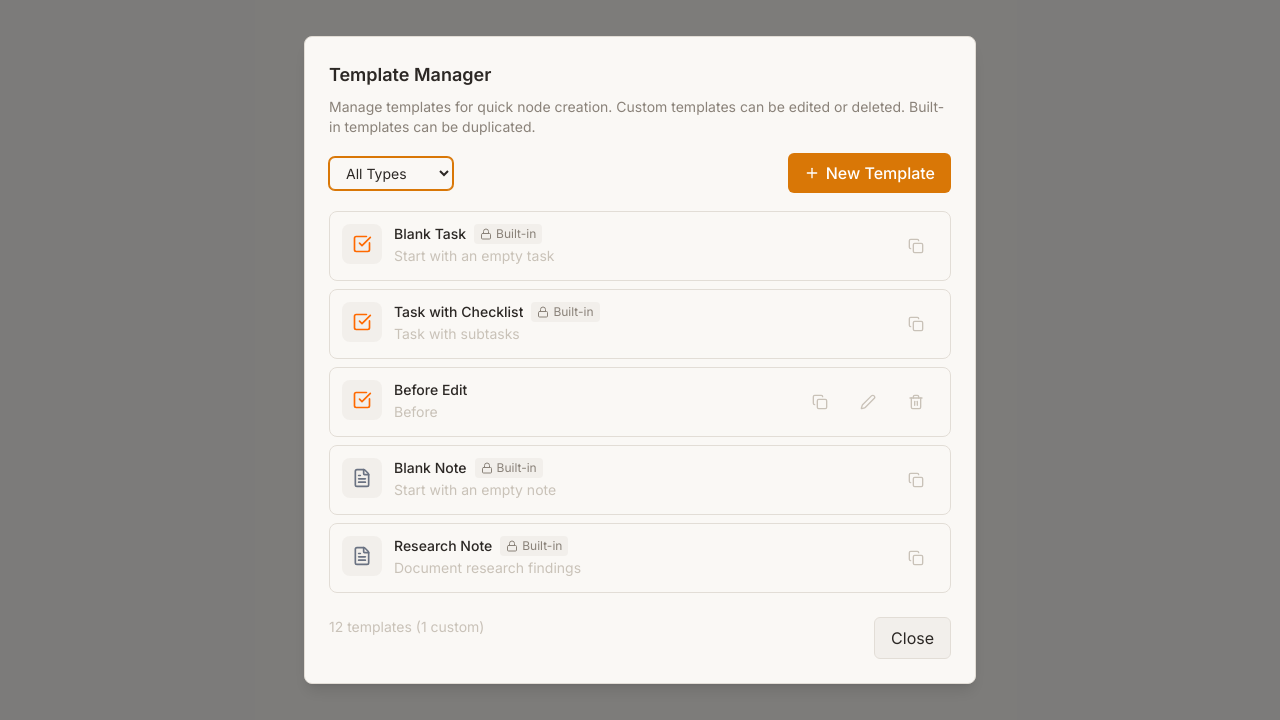
Test: TemplateManager › editing templates › saves edited template
This screenshot has width=1280, height=720.
(page scrolled)
Click the button named "Edit Before Edit". click: (868, 402)
box: [846,380,890,424]
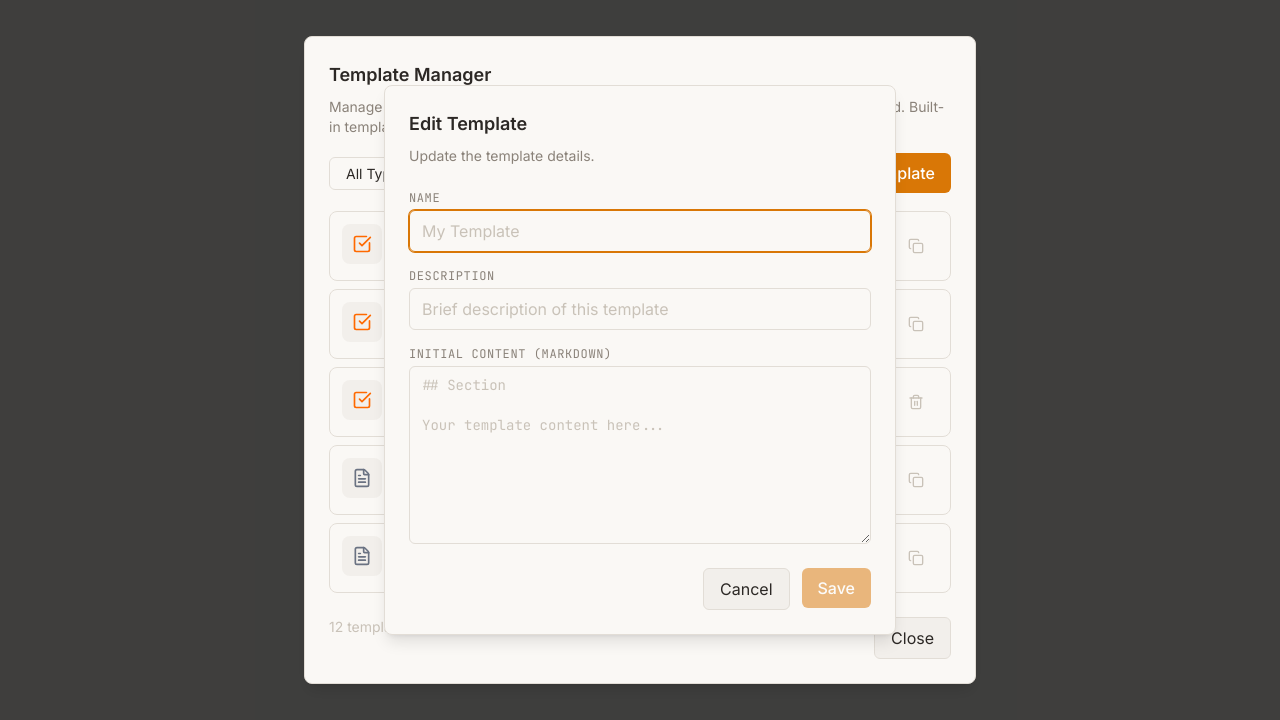
Type "After Edit" into the field labelled "Name". click: (640, 231)
box: [409,210,871,252]
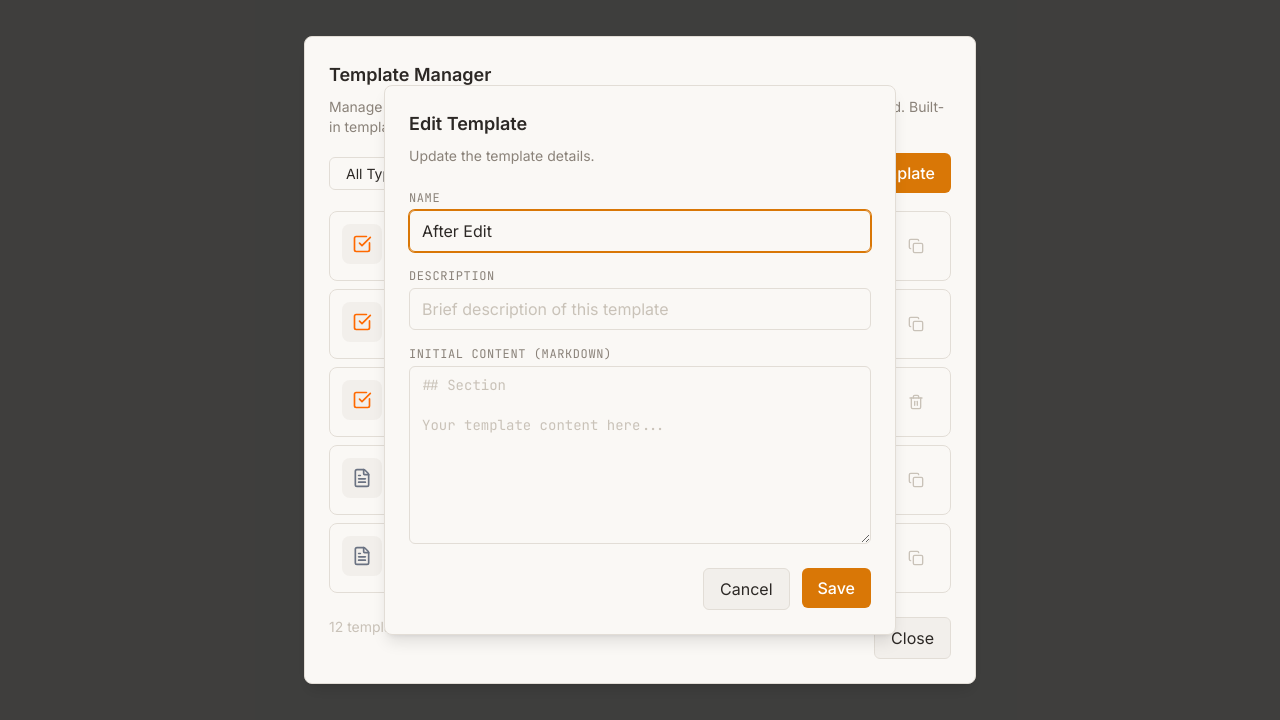
Click the button "Save". click: (836, 588)
box: [802,568,871,608]
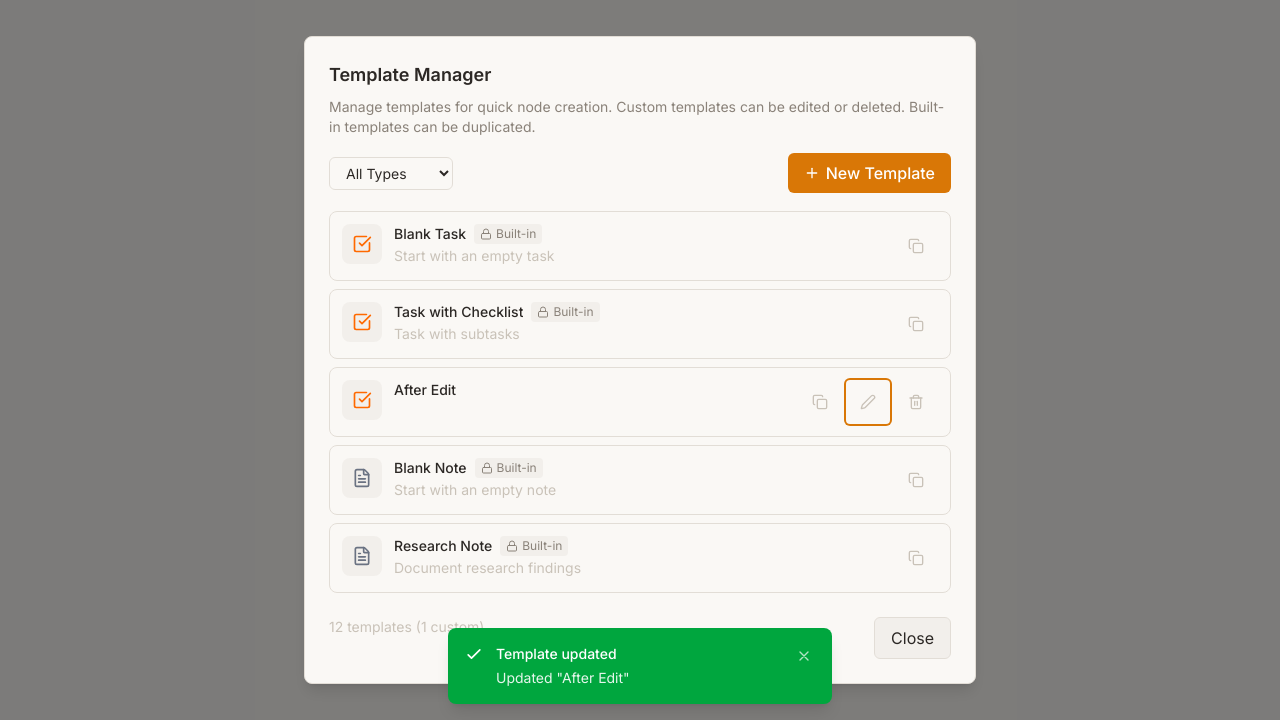
Check: the heading "After Edit" is shown, box [394,380,456,400]
Check: the heading "Before Edit" is gone
